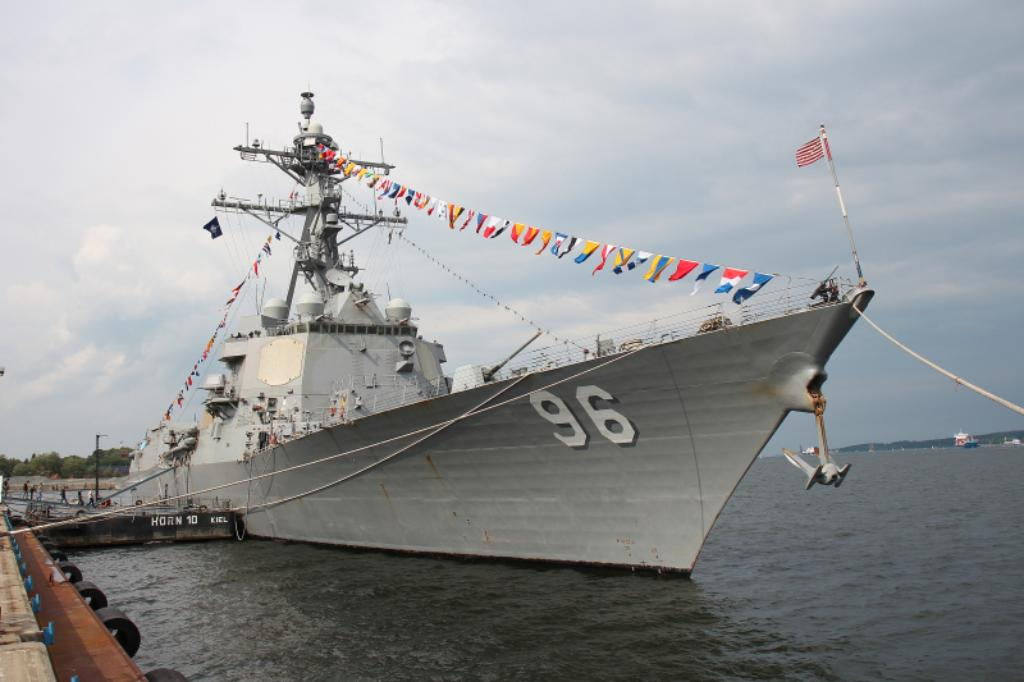Warship: (104, 41, 888, 587)
